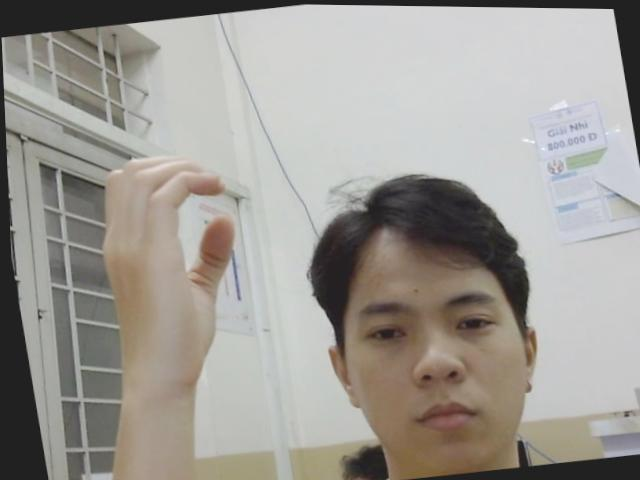C: (83, 146, 257, 389)
